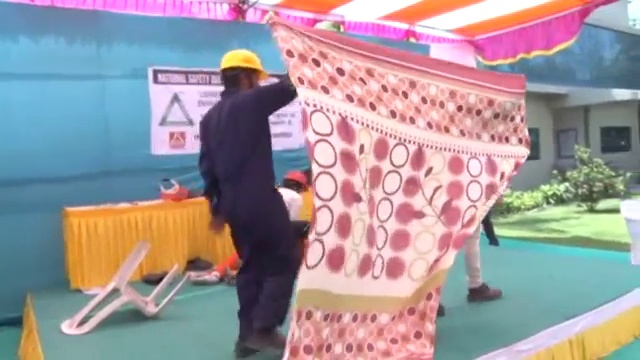helmet: (220, 47, 269, 84), (281, 170, 311, 192)
helmet-on: (282, 170, 311, 196)
helmet_on: (219, 46, 269, 94)
person: (199, 48, 306, 360), (271, 167, 313, 222)
